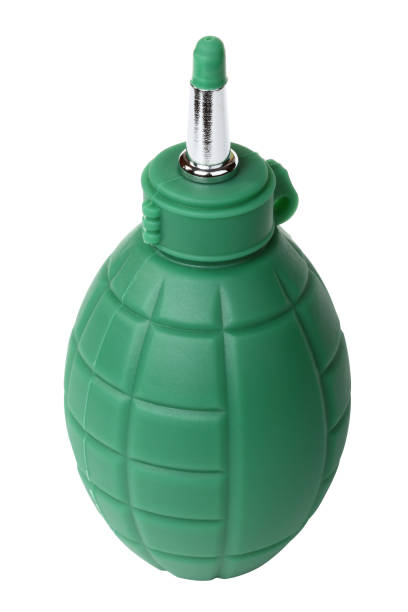e1: (61, 41, 354, 575)
